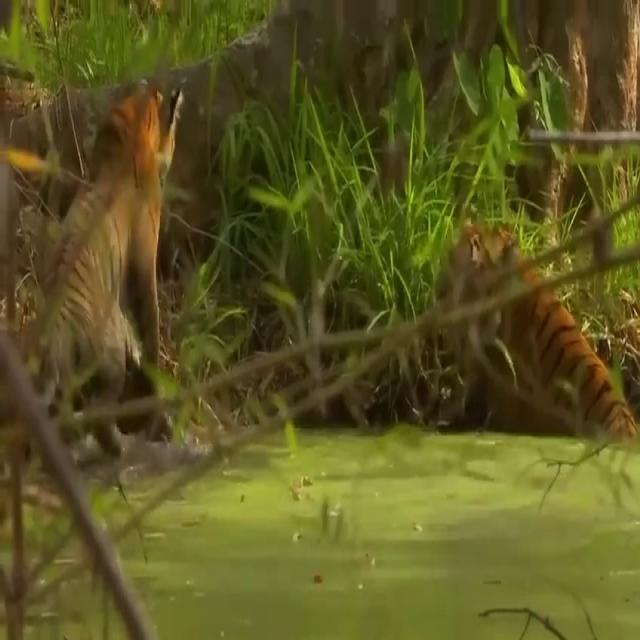tiger: (27, 82, 182, 454), (436, 225, 640, 439)
